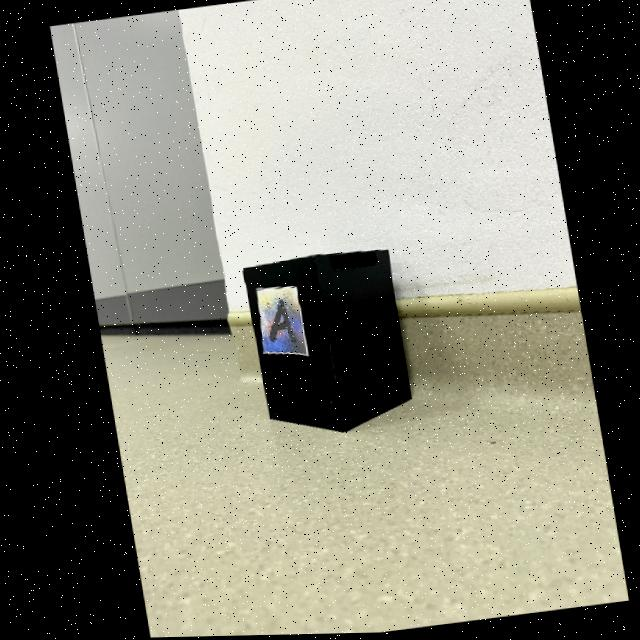A: (265, 301, 292, 343)
